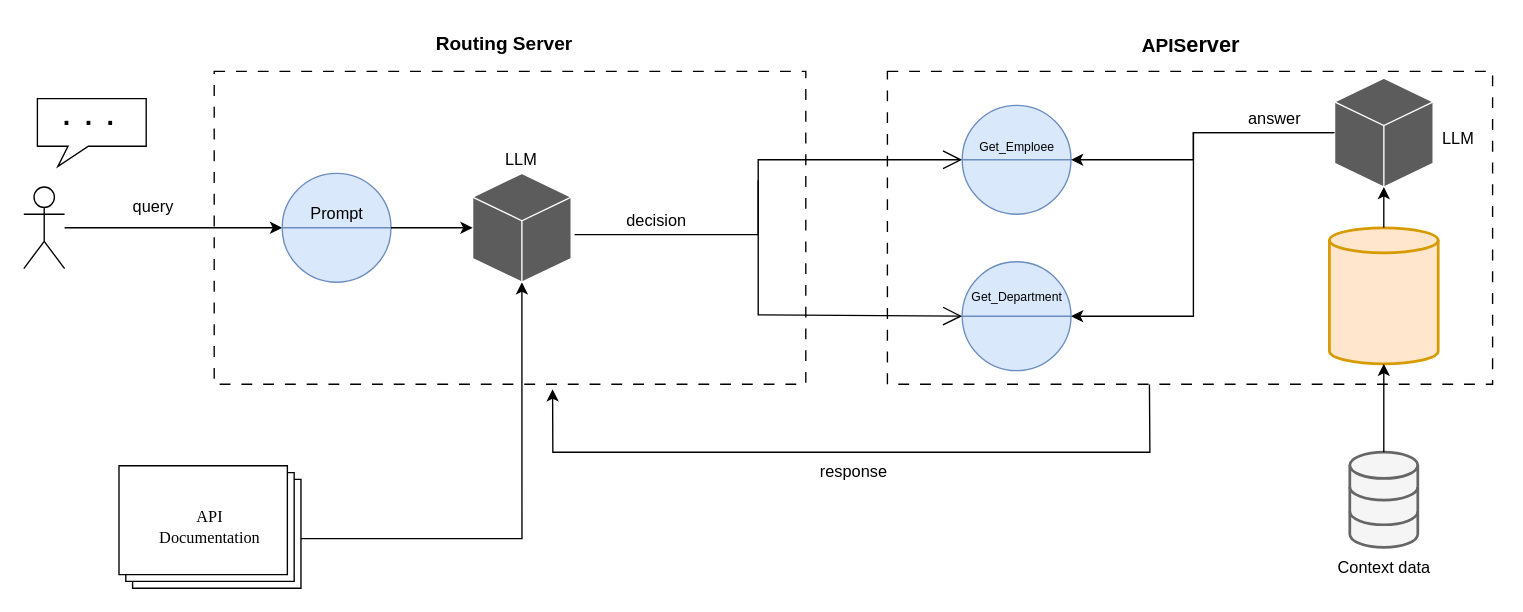
Some shapes in this 1523 by 612 pixel diagram are drawn without their labels. The shapes that lost their labels are listed below. From the top down, each one's centre as x and y in pixels, then its label:
At point 43,227: "Actor".
At point 1383,295: "VectorStore".
